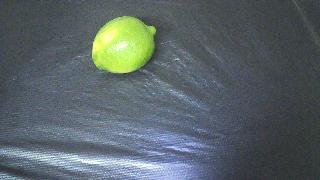LOCAL: (92, 16, 156, 74)
